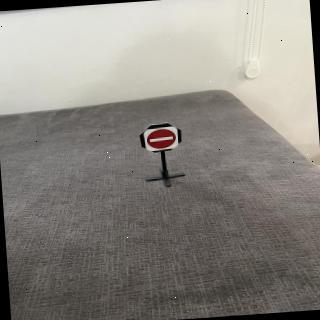sign_noentry: (143, 125, 181, 154)
